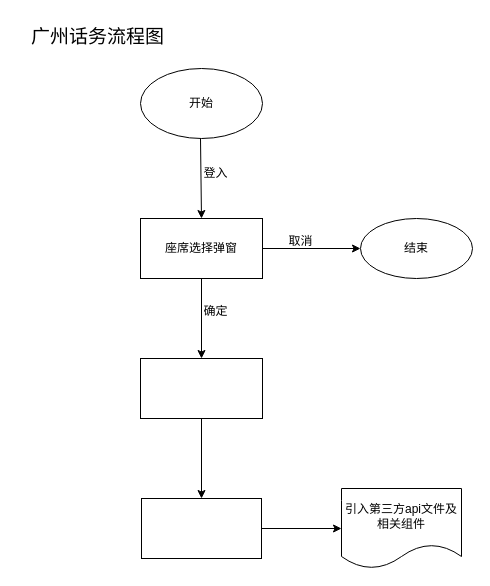
Some shapes in this 490 by 586 pixel diagram are drawn without their labels. Here are the shapes that lost their labels. From the top down, the box of each, then its label:
(140, 358, 262, 418): store存储话务相关字段
(140, 498, 262, 558): 显示话务相关操作按钮
